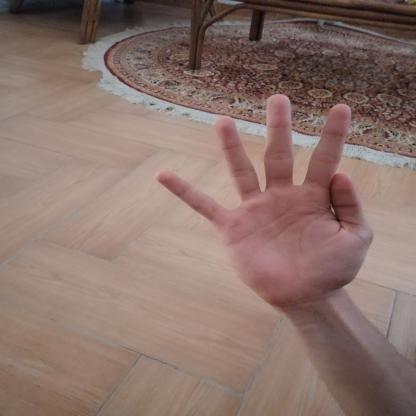SHEEN: (142, 81, 389, 321)
